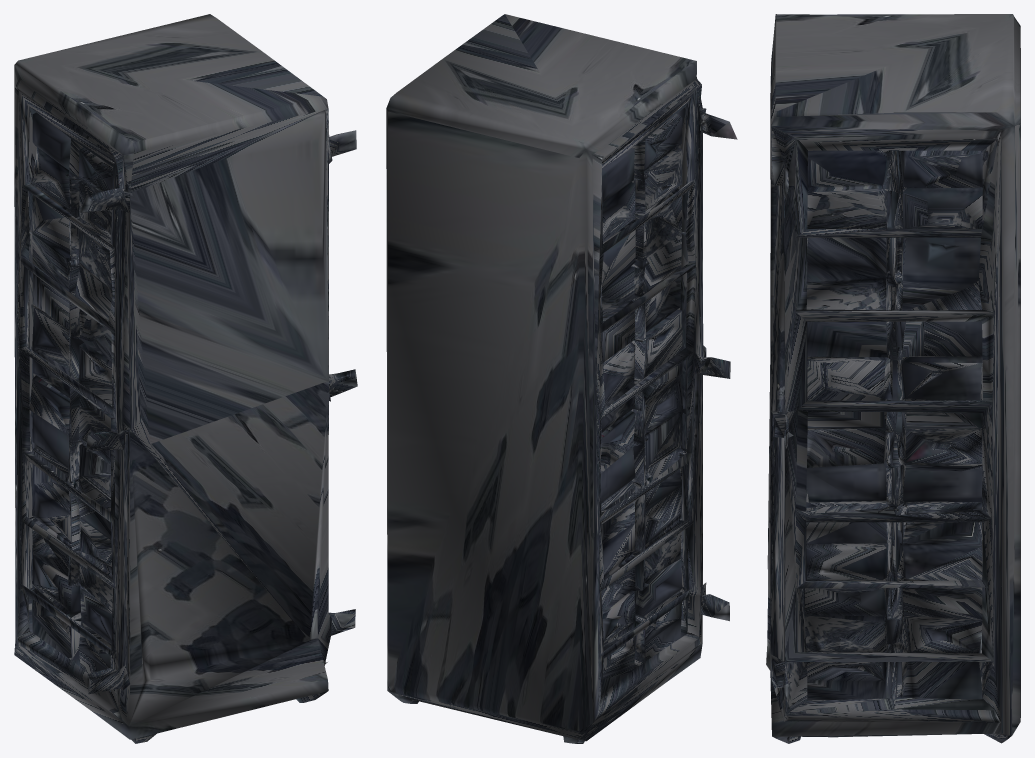
File: gov_server_rack.glb
3 renders of one model, left to right at view 1: azimuth 30°, elevation 25°; view 2: azimuth 150°, elevation 25°; view 3: azimuth 270°, elevation 25°, orthographic. The views are drawn at different scales.
Visible parts, largest first — view 1: tripo_node_5b5513ea-03a4-4235-8512-59f28b0481fe; view 2: tripo_node_5b5513ea-03a4-4235-8512-59f28b0481fe; view 3: tripo_node_5b5513ea-03a4-4235-8512-59f28b0481fe.
Boxes of the visible parts, <box> form: tripo_node_5b5513ea-03a4-4235-8512-59f28b0481fe: <box>14,14,357,743</box>; tripo_node_5b5513ea-03a4-4235-8512-59f28b0481fe: <box>386,14,737,743</box>; tripo_node_5b5513ea-03a4-4235-8512-59f28b0481fe: <box>766,14,1020,743</box>.
Bounding box in the file's own units: 0.4786 × 0.9998 × 0.363.
1 material, 1 textured.
